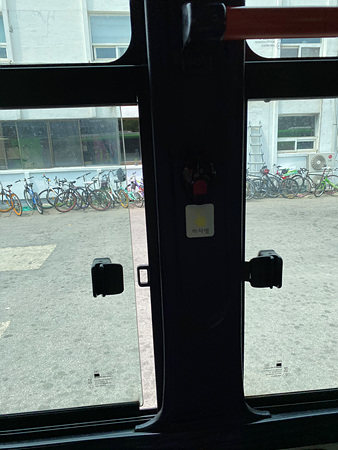bell: (182, 154, 217, 206)
